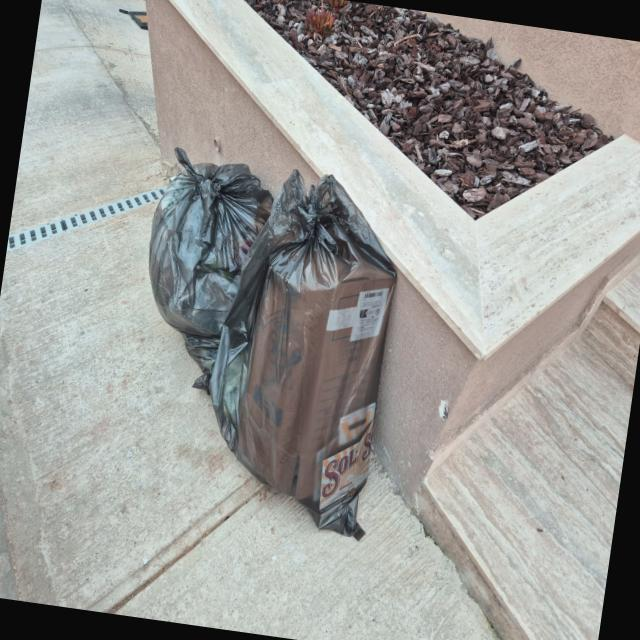black_bag: (192, 158, 412, 540), (132, 115, 281, 338)
